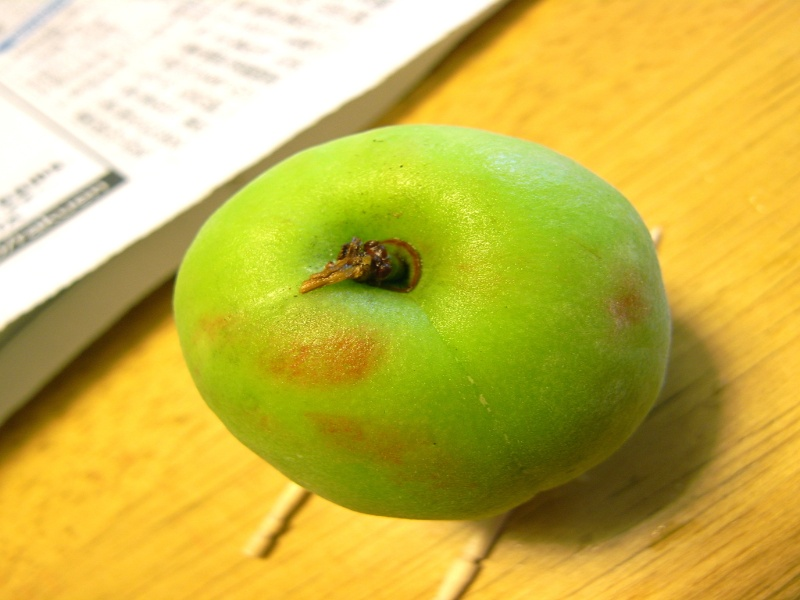apple: (176, 118, 680, 523)
